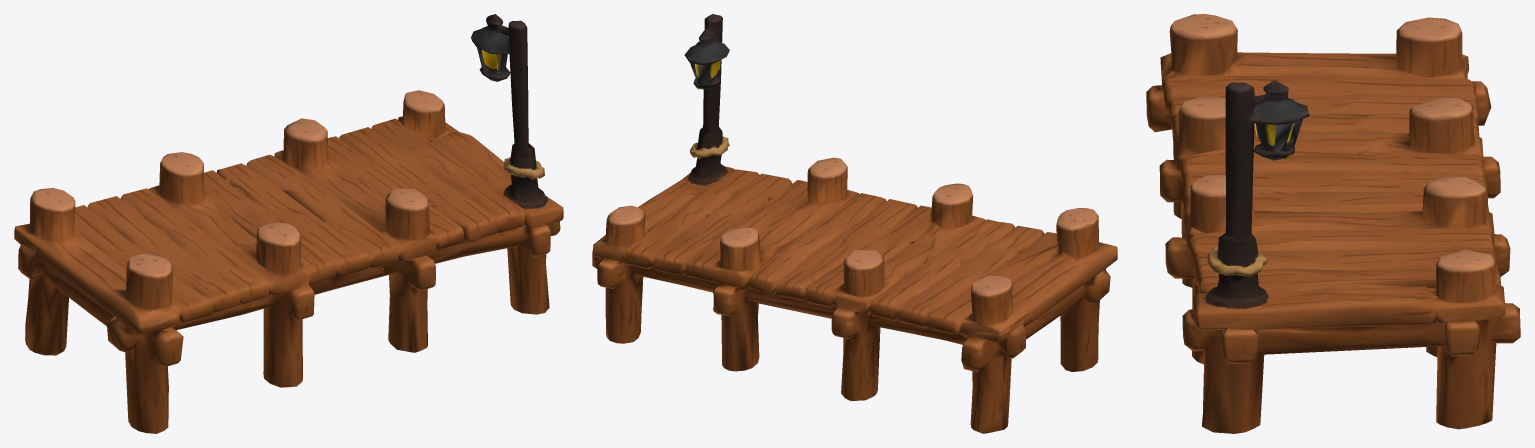
Rendered from landing.glb.
3 views of the same model, side by side, from view 1: azimuth 30°, elevation 25°; view 2: azimuth 150°, elevation 25°; view 3: azimuth 270°, elevation 25° (orthographic). The views are drawn at different scales.
Bounding box in the file's own units: 5 × 3.12 × 2.99.
1 material, 1 textured.
